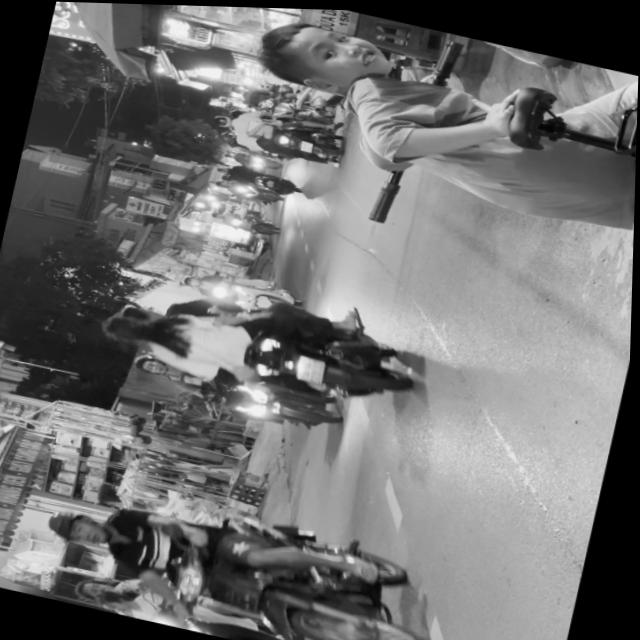helmet: (46, 505, 117, 550)
licenseplate: (31, 467, 455, 640), (90, 258, 430, 420), (69, 563, 349, 640)
motorcyclist: (100, 311, 157, 348), (100, 586, 152, 619), (117, 301, 167, 330), (75, 575, 121, 606)
nohelmet: (296, 353, 326, 383)
